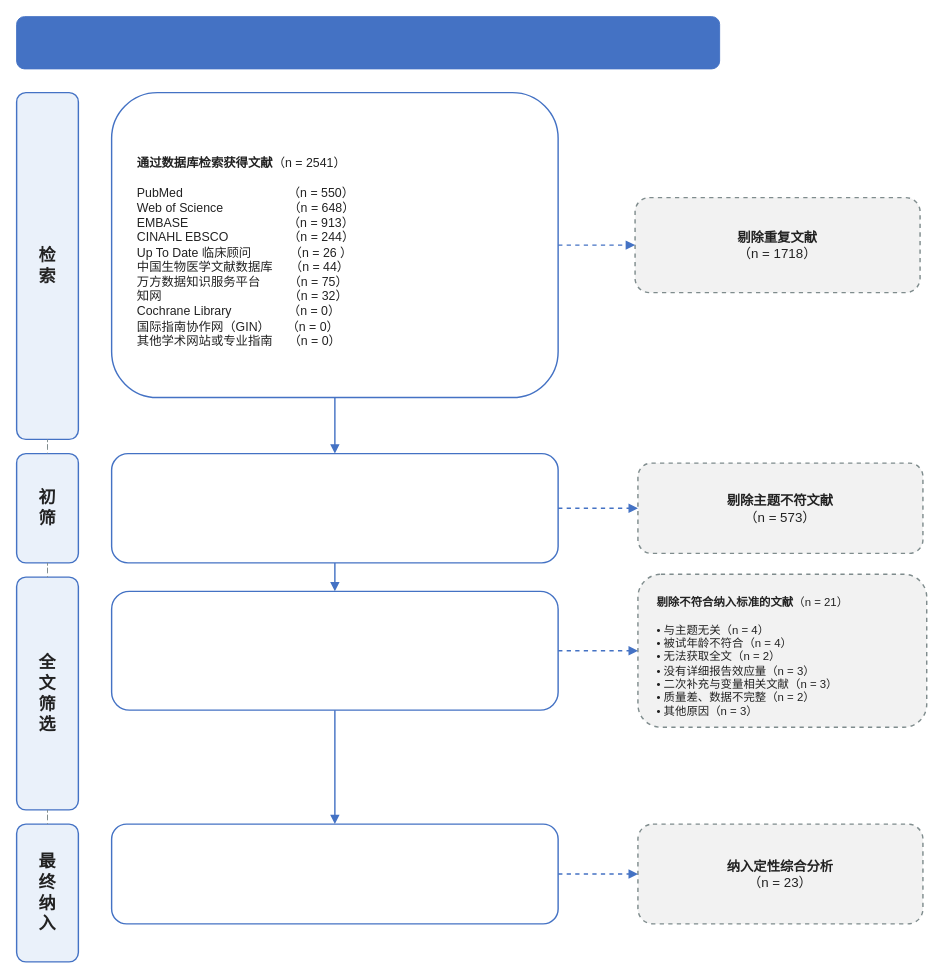
Image size: 944x979. Some labels were removed from this diagram. Each missing label, with the centre of its shape:
"文献检索与筛选流程" belongs at (368,42).
"最终纳入文献 （n = 23）" belongs at (334,873).
"阅读全文后进一步筛选 （n = 44）" belongs at (334,650).
"阅读标题与摘要后初步筛选 （n = 617）" belongs at (334,507).
